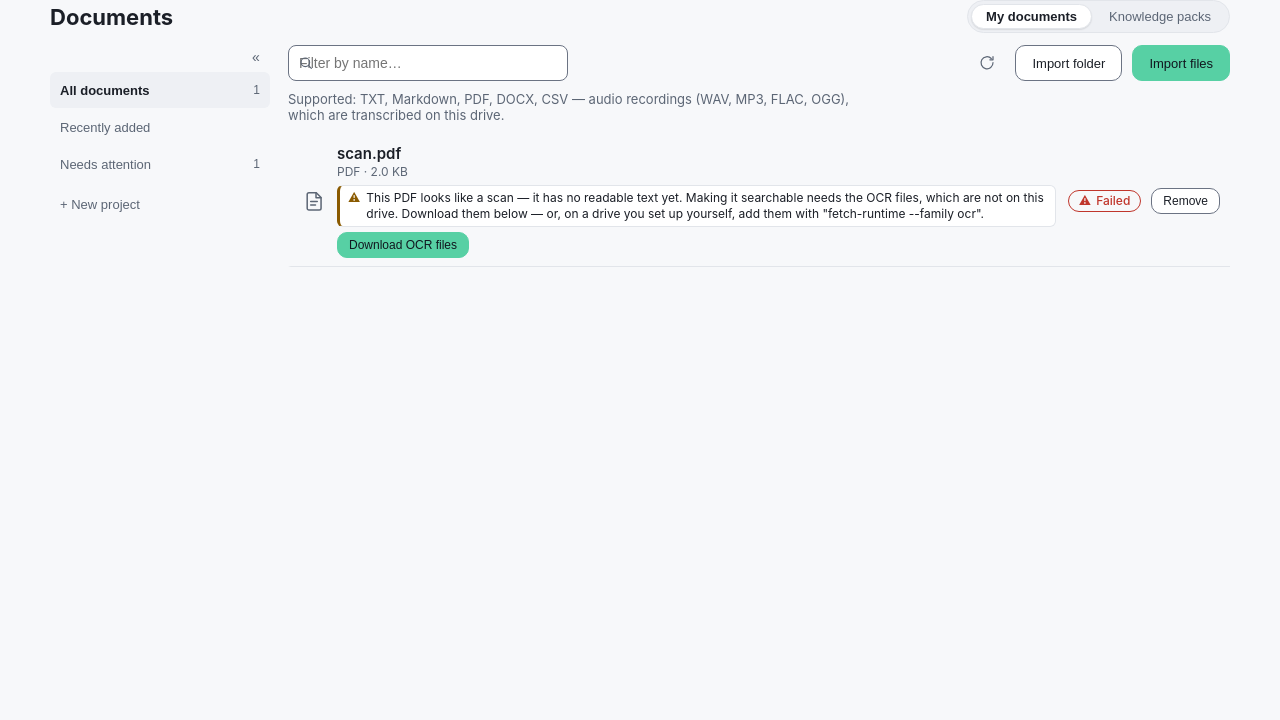
Scenario: OcrInstall — Documents rows (#410) › 9: a done "activated" job toasts, re-reads app status, and the scan row offers OCR without a remount
Click the button "Download OCR files": coordinates (403, 245) [337, 232, 469, 258]
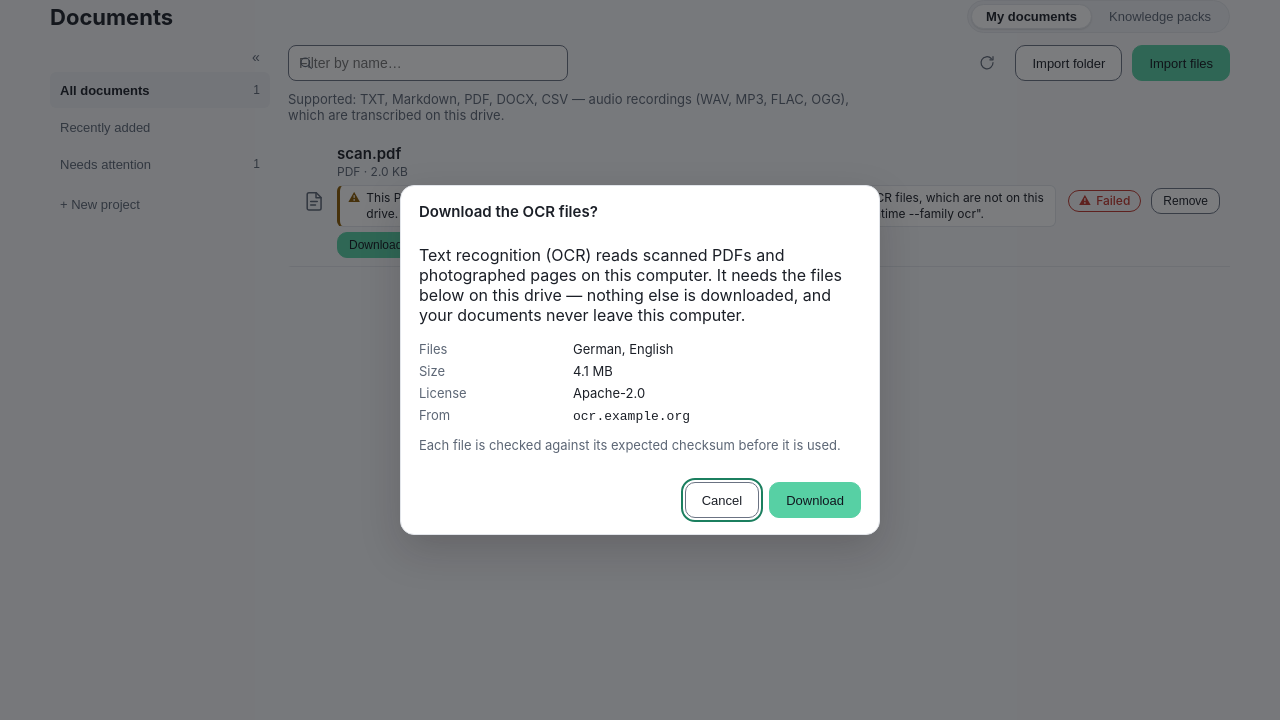
Click the button "Download": coordinates (815, 500) [769, 482, 861, 518]
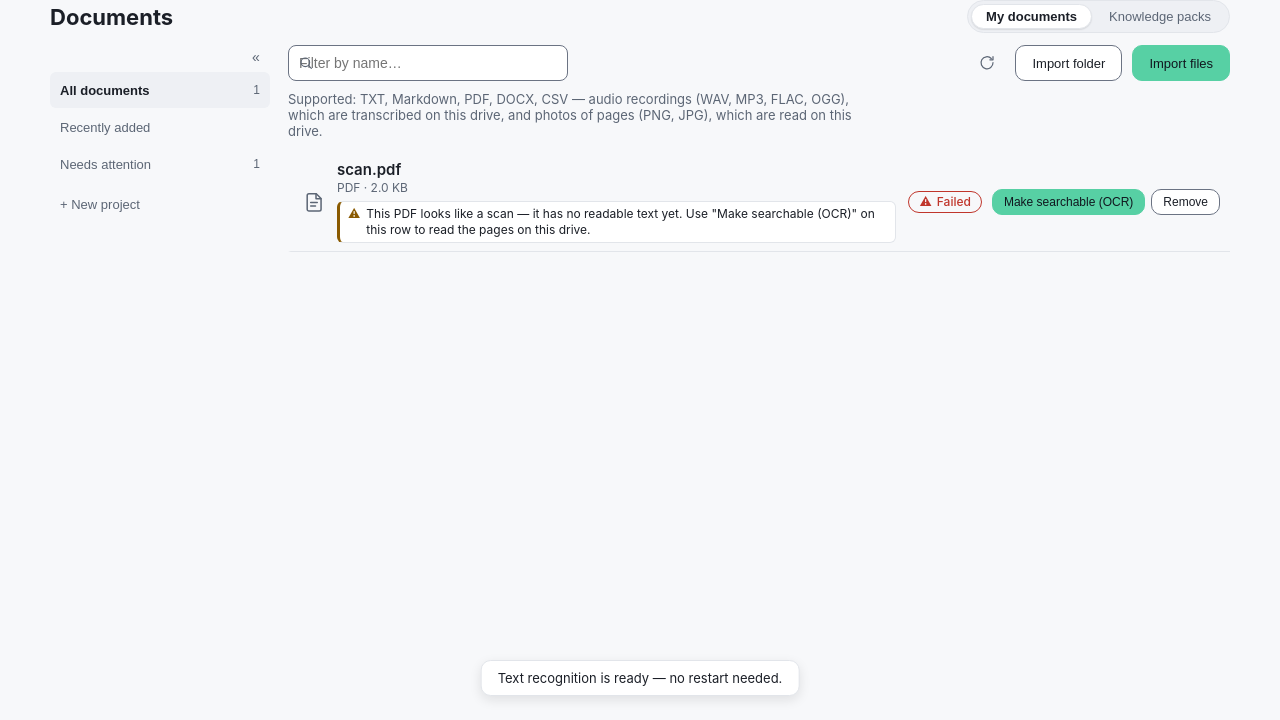
Check: the text "Text recognition is ready — no restart needed." is shown, box [481, 660, 799, 696]
Check: the button "Make searchable (OCR)" is shown, box [992, 188, 1145, 214]
